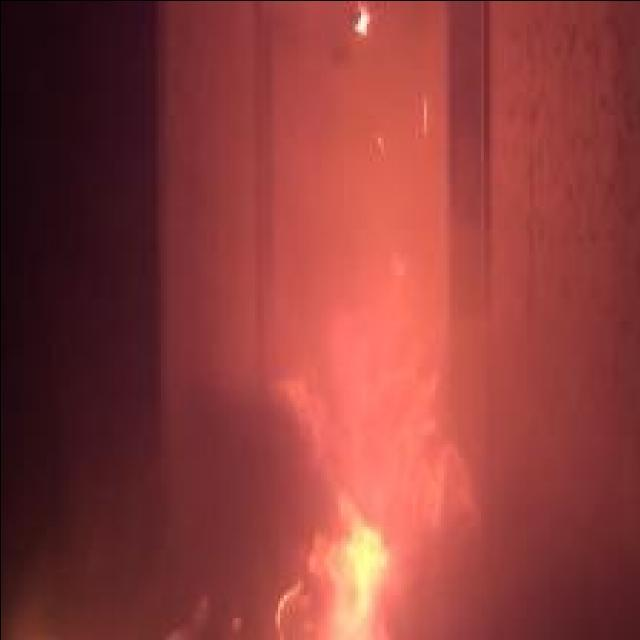Fire: (276, 486, 391, 640), (354, 0, 372, 37)
